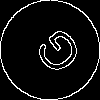G: (25, 25, 85, 84)
